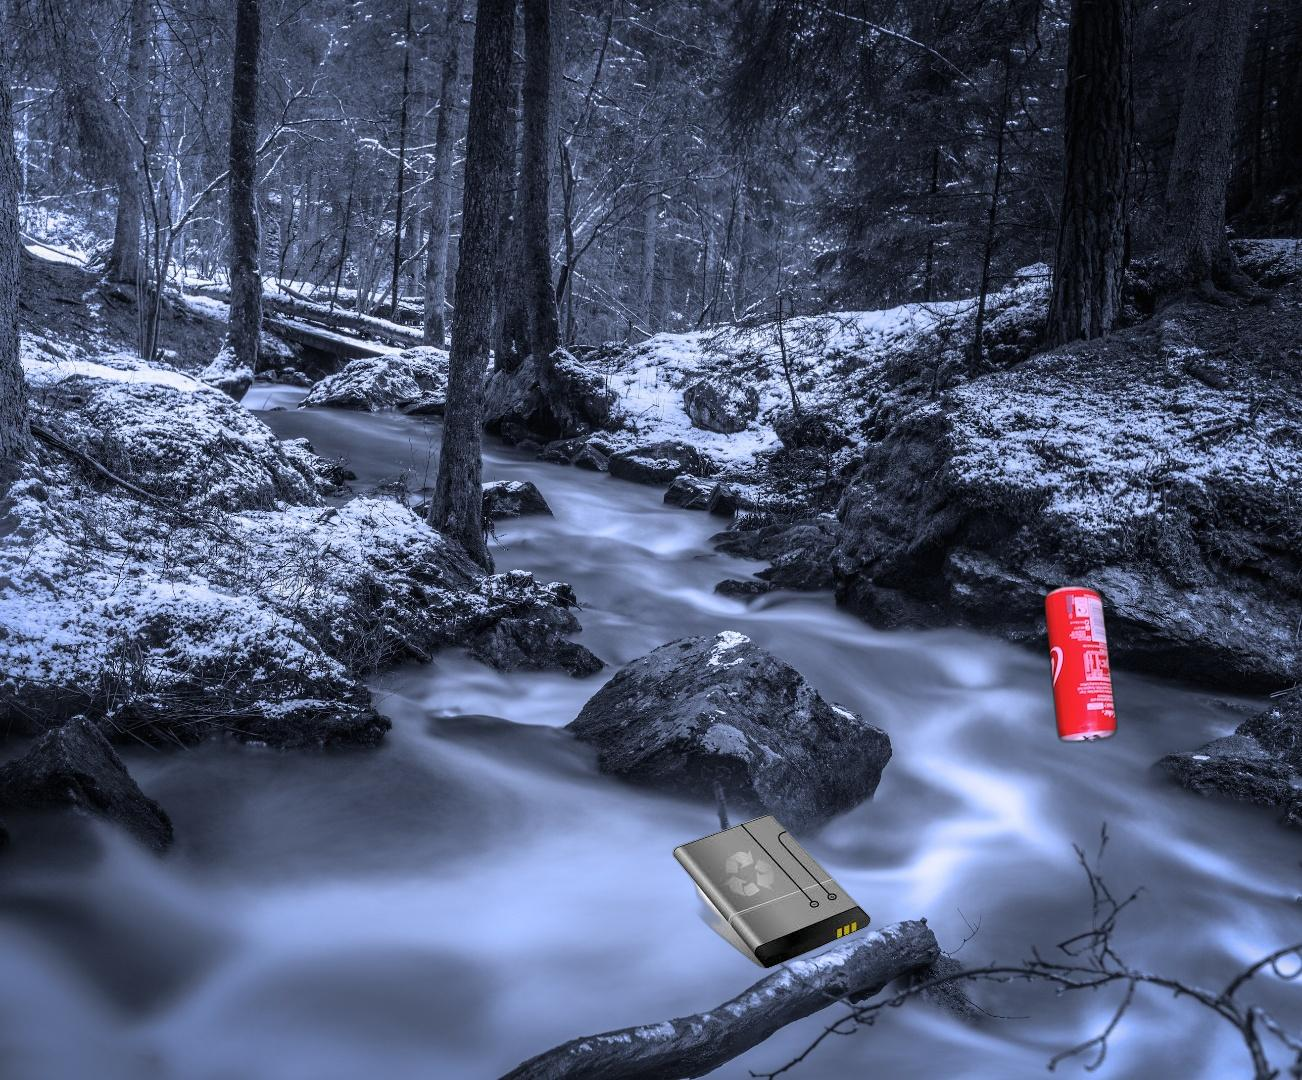battery: (670, 812, 872, 971)
metal-cans: (1040, 579, 1122, 749)
